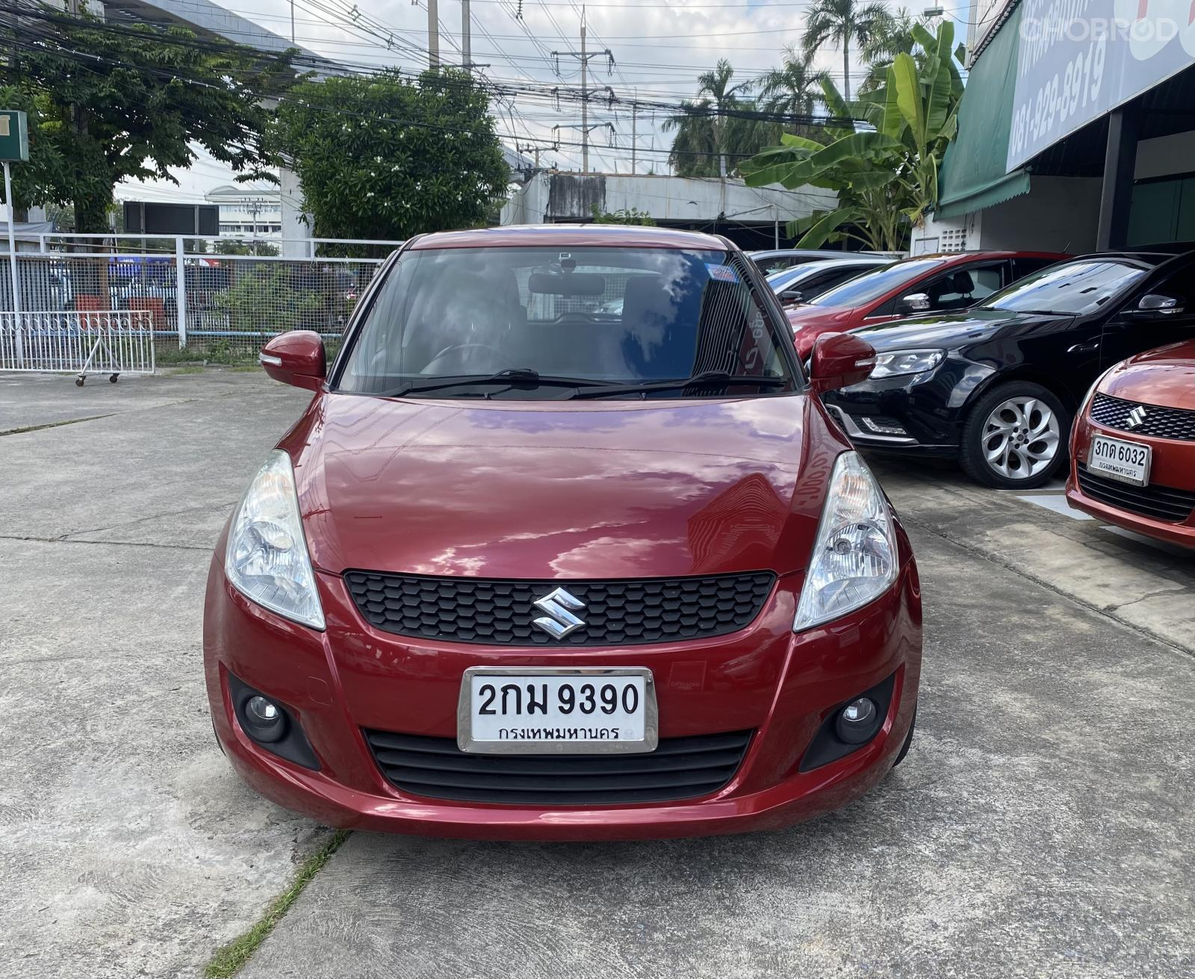license-plate: (458, 654, 663, 765), (1087, 430, 1147, 486)
